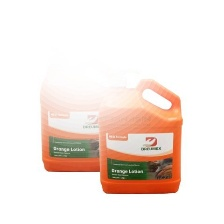book: (95, 65, 184, 196), (37, 44, 123, 173)
